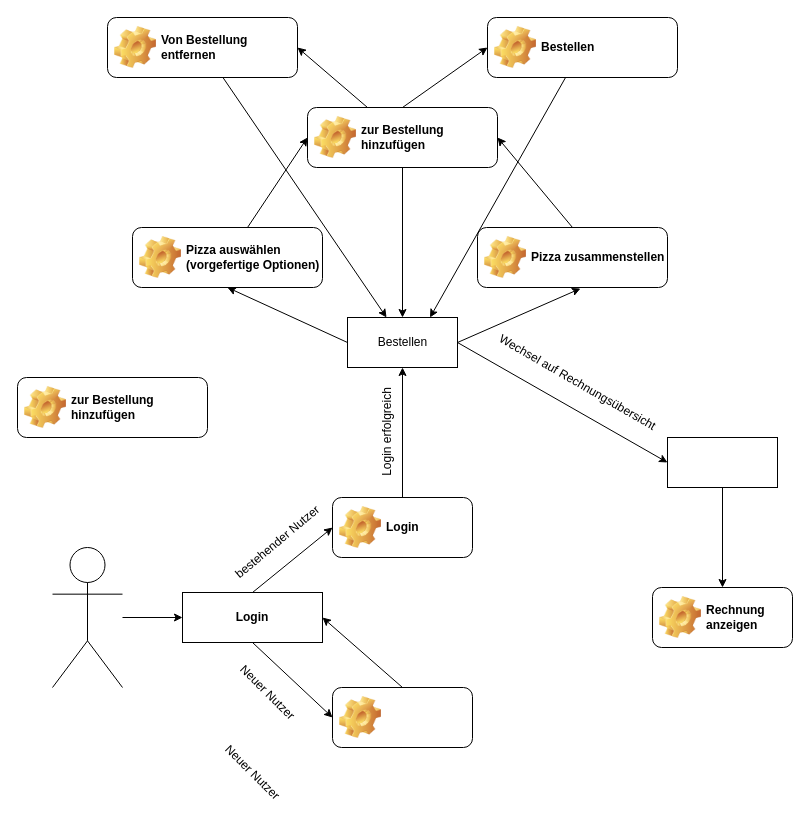
This 810x832 diagram has some shape labels left out. The centre of each missing label's shape, as x and y in pixels:
Actor: pixel 87 617
Rechnung: pixel 722 462
Registrieren: pixel 402 717
